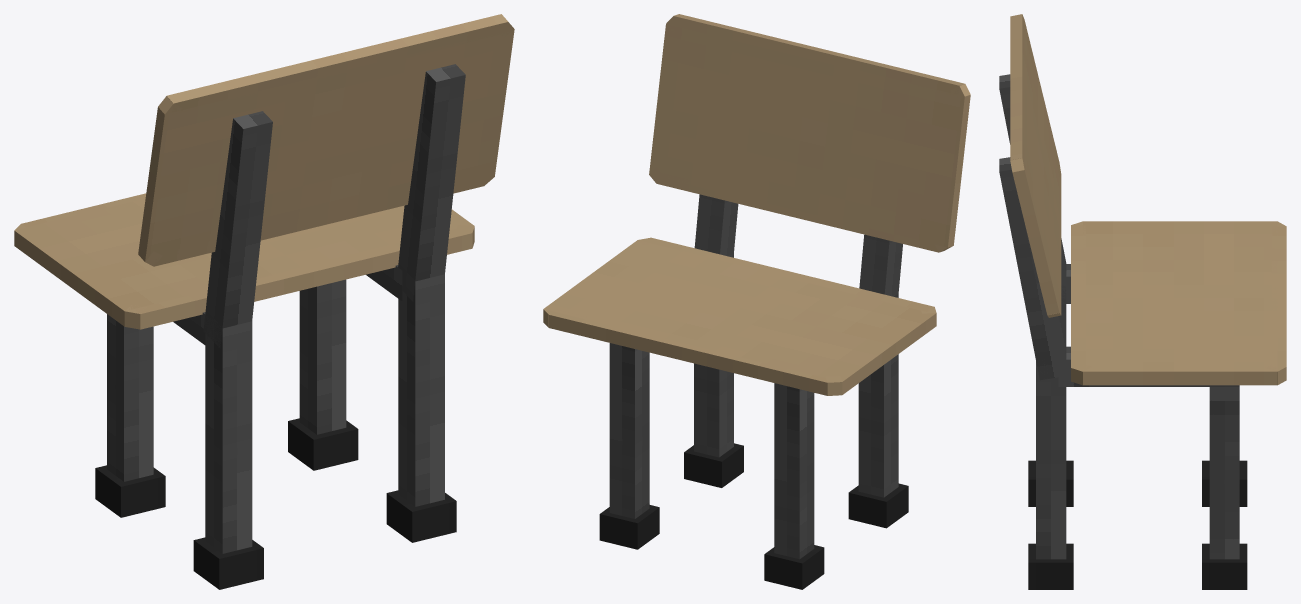
Rendered from chair.obj.
3 views of the same model, side by side, from view 1: azimuth 30°, elevation 25°; view 2: azimuth 150°, elevation 25°; view 3: azimuth 270°, elevation 25° (orthographic). The views are drawn at different scales.
Parts seen in each view (by area): view 1: cube; view 2: cube; view 3: cube.
Boxes of the visible parts, x1,y1,x2,y2 form: cube: (14,14,514,589); cube: (543,14,970,589); cube: (999,14,1286,589).
Bounding box in the file's own units: 0.7376 × 1.03 × 0.5955.
